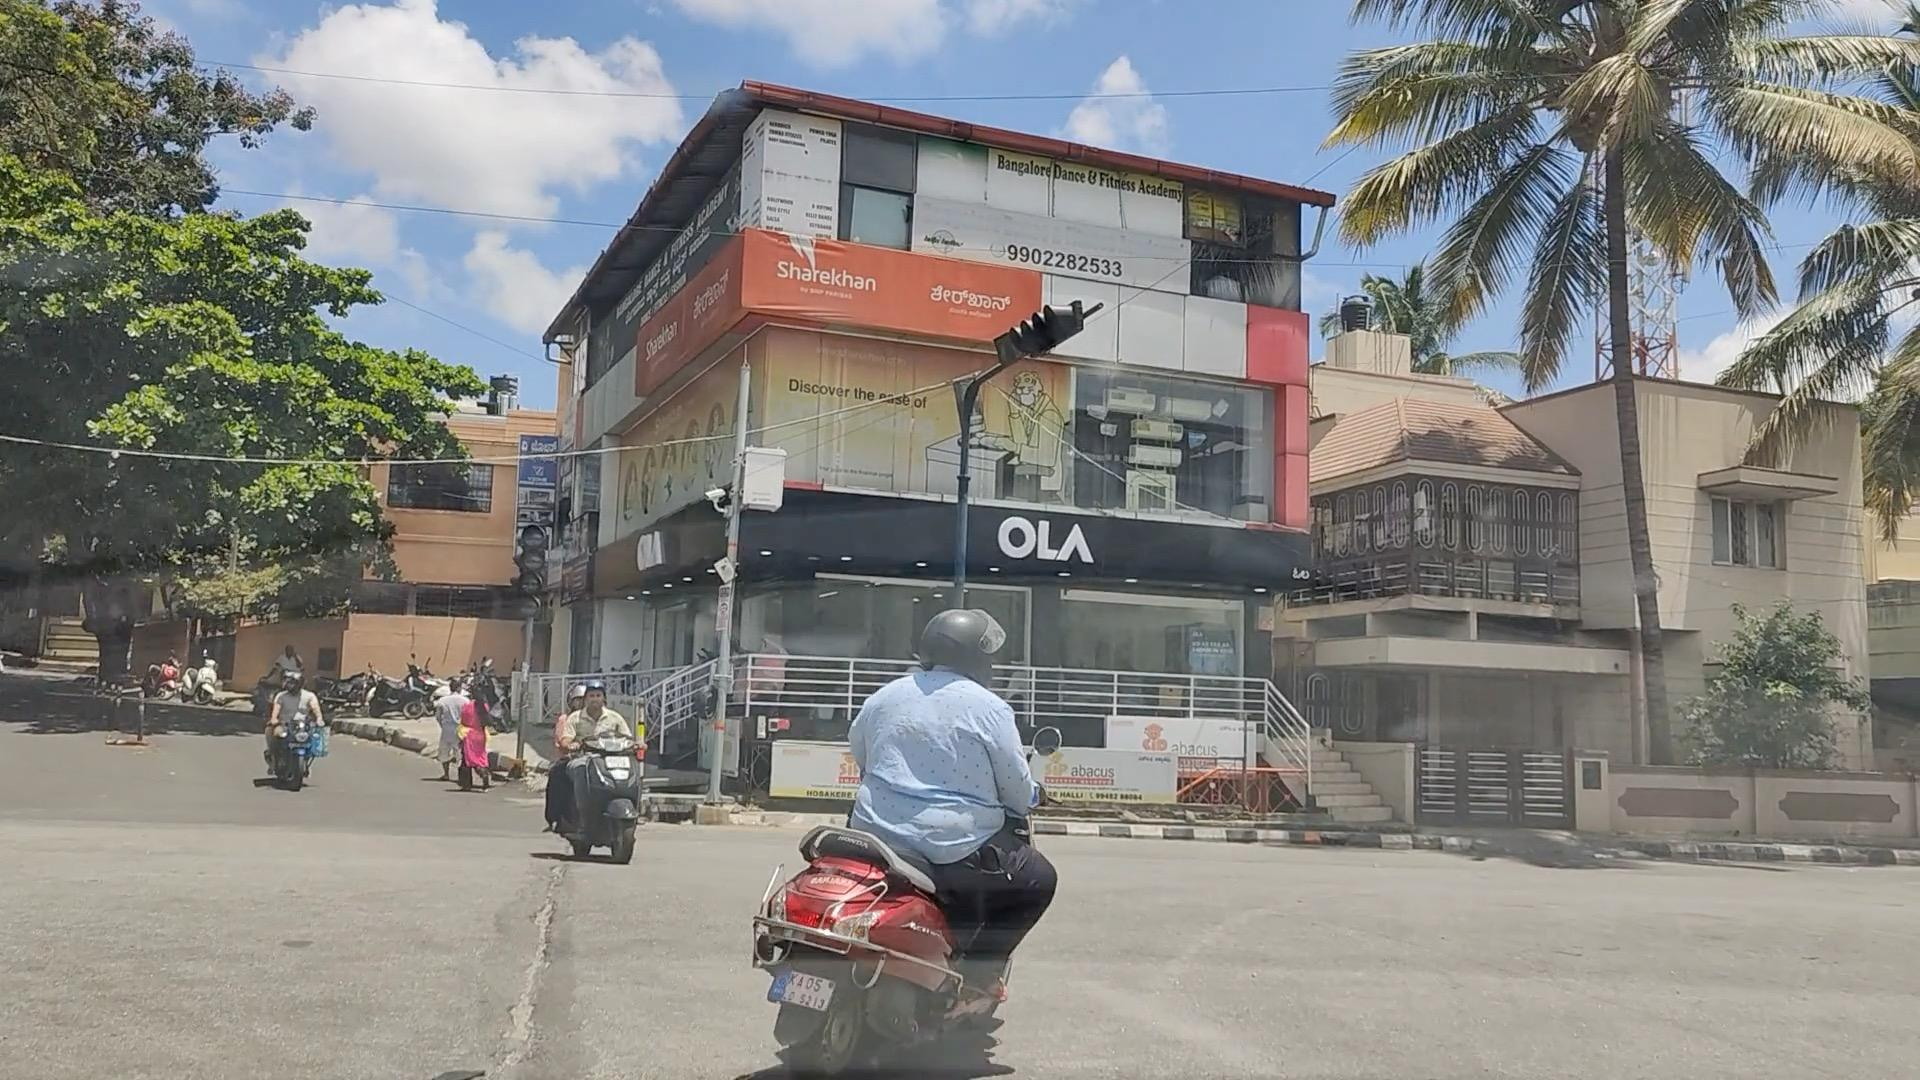LMV: (807, 676, 1031, 1072), (510, 683, 658, 857)
RoadDamages: (469, 890, 632, 1080)
